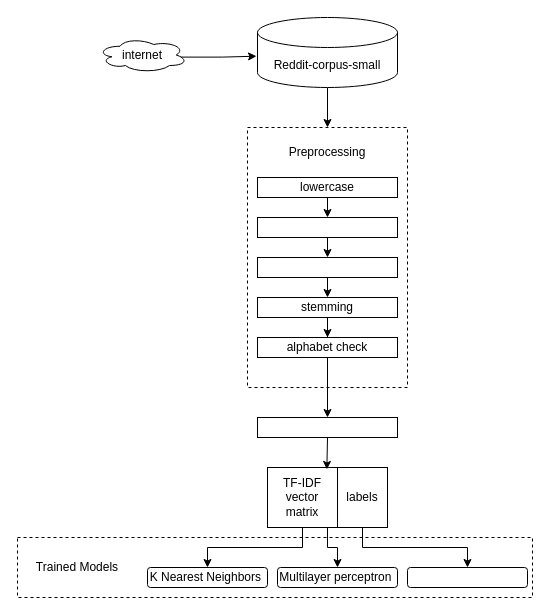
Some shapes in this 550 by 615 pixel diagram are drawn without their labels. Each missing label, with the centre of its shape:
"Naïve Bayer's" belongs at (467,577).
"stopword removal" belongs at (327,267).
"tokenization" belongs at (327,227).
"Vectorize" belongs at (327,427).
